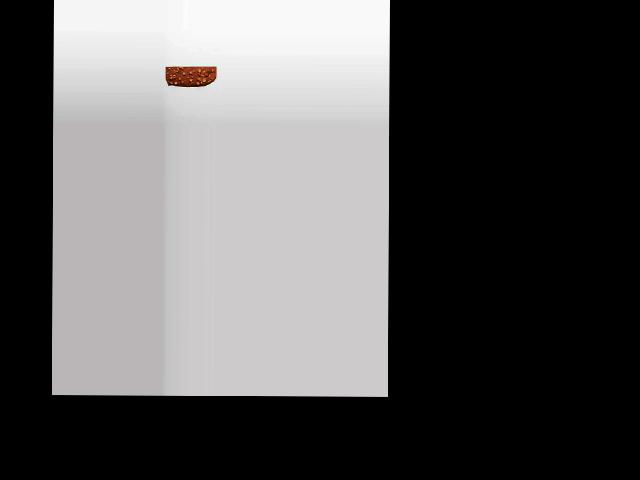chocolate: (165, 64, 216, 91)
